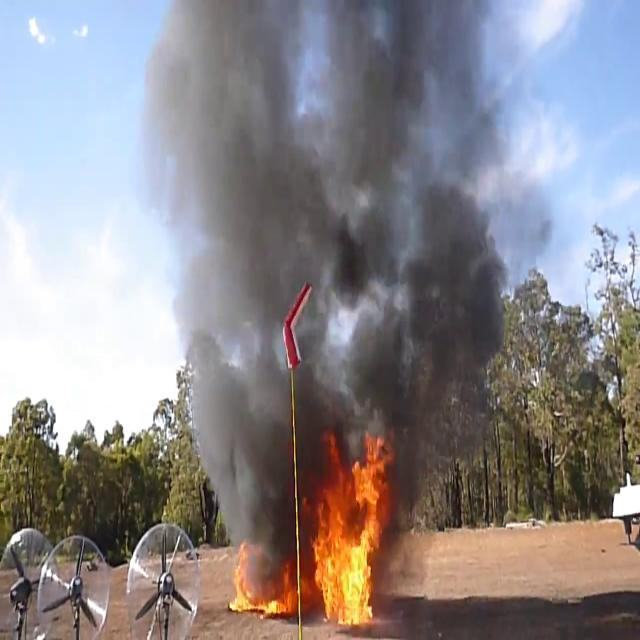Fire: (311, 438, 393, 630), (225, 546, 293, 622)
Smoke: (143, 0, 519, 514)
